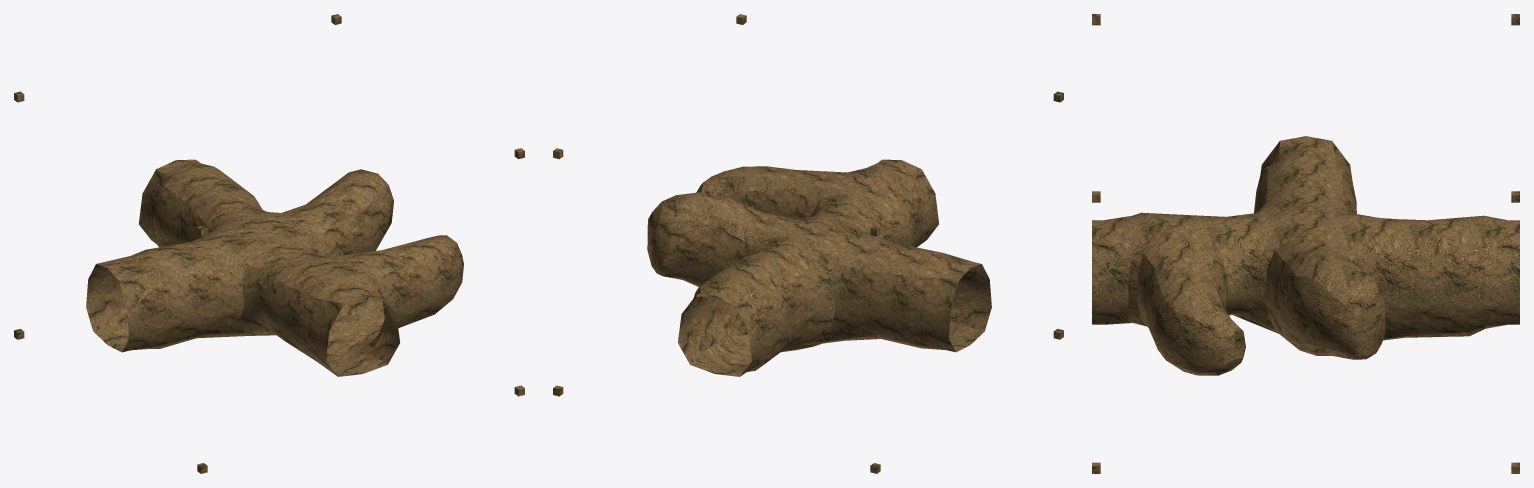
File: lba_3f.glb
The picture shows the model from 3 angles, left to right: view 1: azimuth 30°, elevation 25°; view 2: azimuth 150°, elevation 25°; view 3: azimuth 270°, elevation 25°; orthographic projection. The views are drawn at different scales.
Visible parts, largest first — view 1: lba_3f-col; view 2: lba_3f-col; view 3: lba_3f-col.
Part boxes in pixels (x1,y1,x2,y2): lba_3f-col: [14, 14, 524, 473]; lba_3f-col: [553, 14, 1063, 473]; lba_3f-col: [1092, 14, 1519, 473].
Size of the model in its own units: 15 by 10.8 by 15.
Materials: 1 (1 with a texture image).
